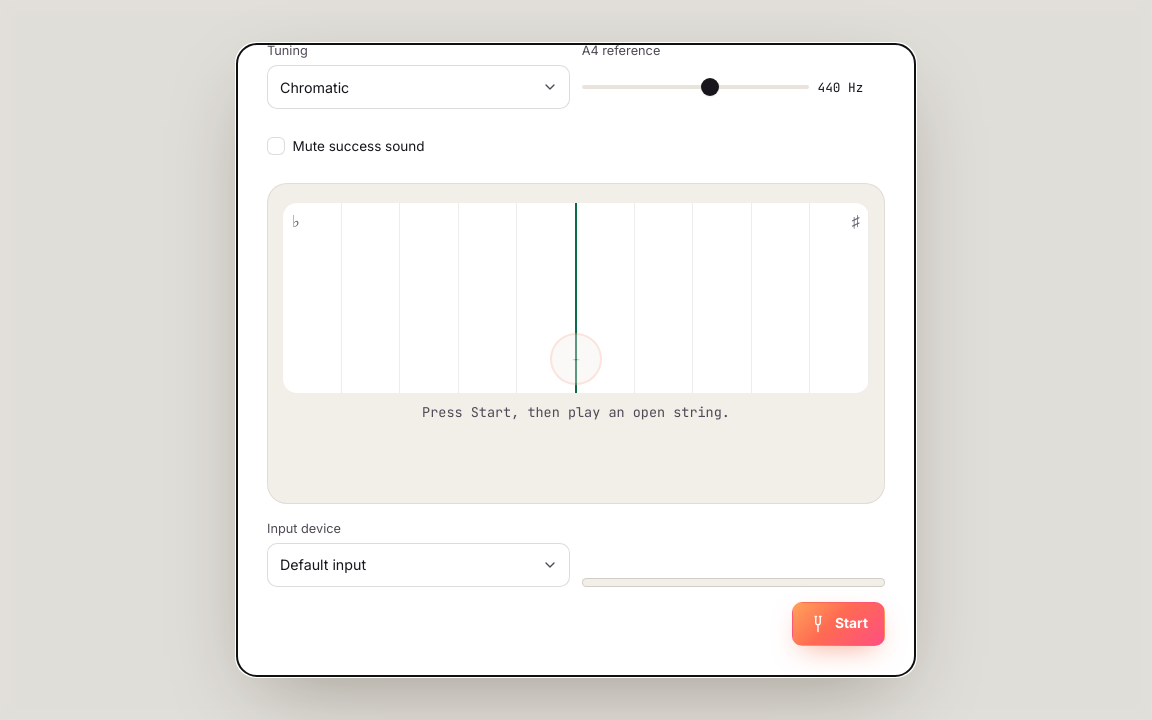
it: TunerSheet › is chromatic from the top bar and has the presets
The width and height of the screenshot is (1152, 720).
(page scrolled)
Expected: the dropdown with test id "tuner-source" shows "Chromatic", [267,65,570,109]
Click the button with test id "tuner-start".
click(838, 624)  # box [792,602,885,646]
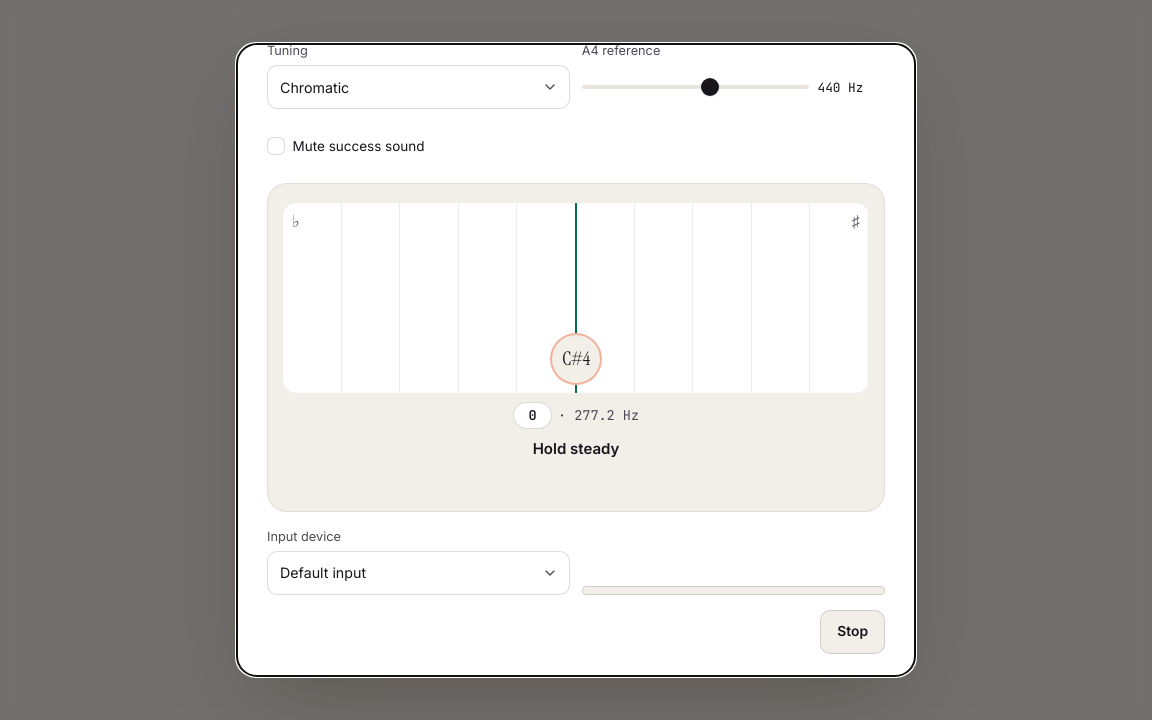
Result: the text with test id "tuner-note" reads "C#4" at [562,346,590,371]
Select "4-string bass" in the dropdown with test id "tuner-source" at {"x": 419, "y": 87}, box [267,65,570,109]
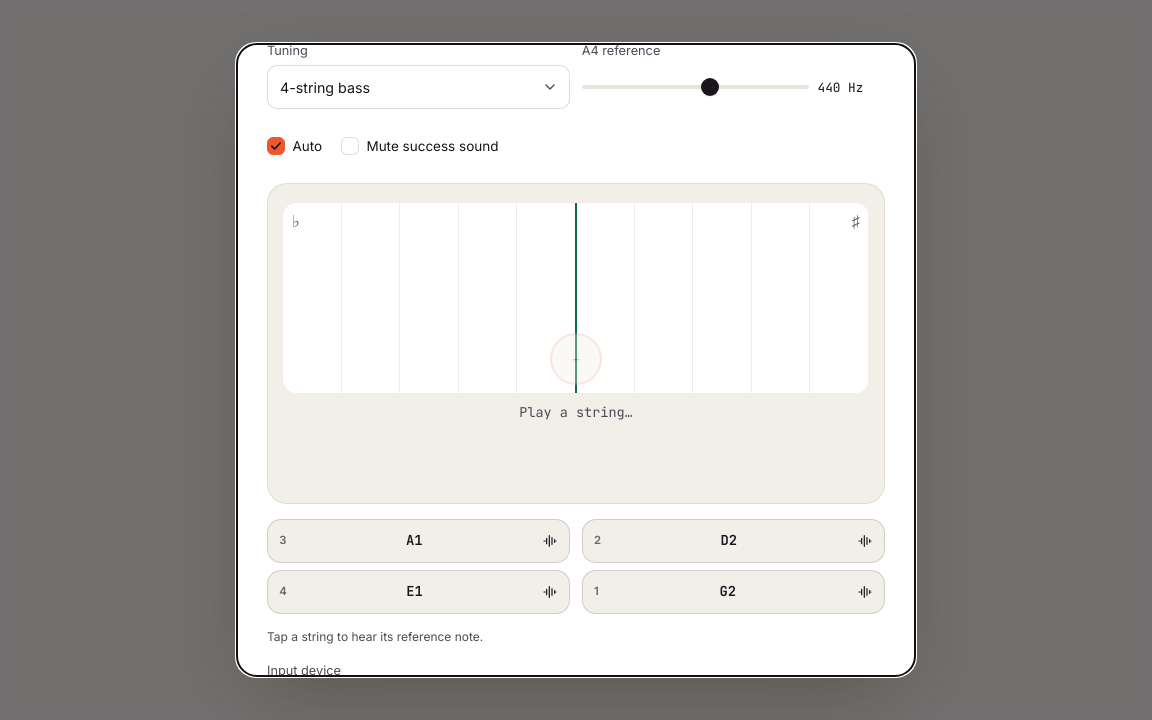
Result: the button with test id "tuner-string-3" shows "E1" at [267,570,570,614]
